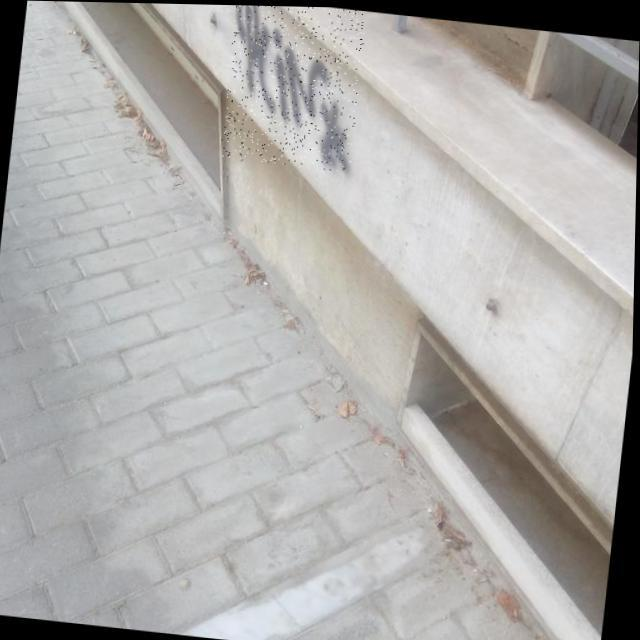-: (219, 3, 367, 170)
